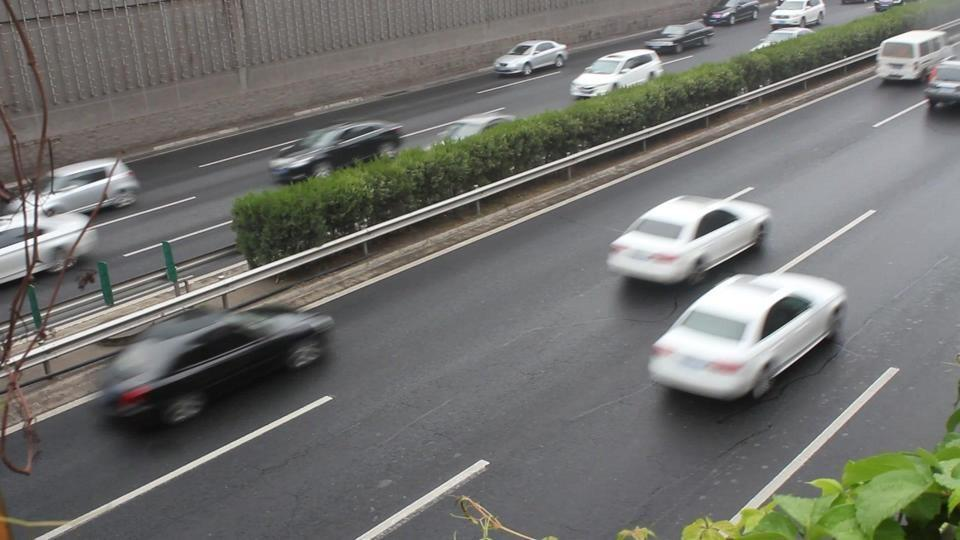car: (94, 306, 338, 431), (648, 270, 849, 402), (1, 158, 140, 280), (606, 192, 773, 286), (269, 120, 404, 186), (11, 157, 140, 217), (570, 48, 665, 100), (494, 39, 570, 77), (645, 22, 715, 55), (923, 58, 960, 111), (769, 0, 826, 29), (703, 0, 760, 28), (871, 0, 902, 13)
